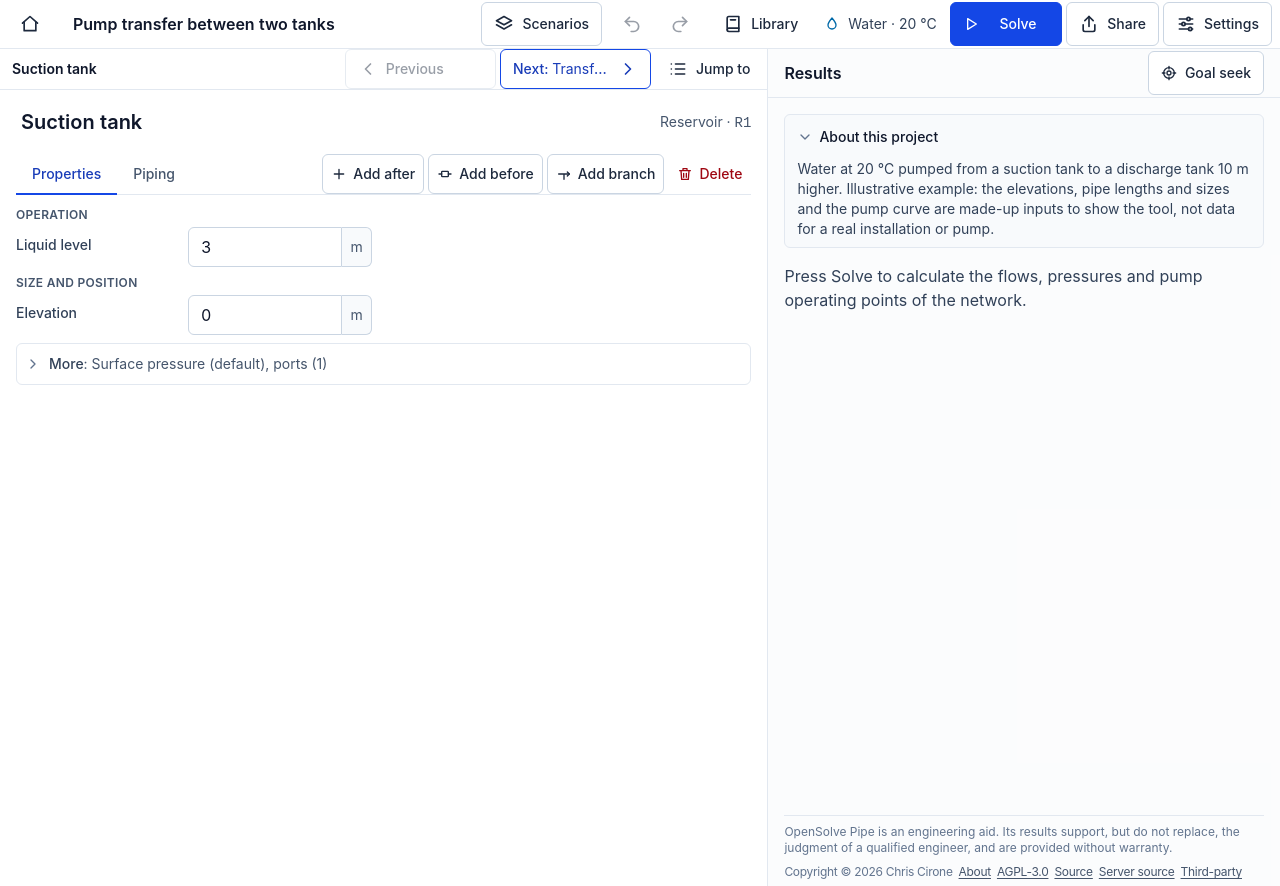
Test case: the export dialog › warns of a solve that did not converge, current or out of date (red)
Click the button "Solve" at (1006, 24), box [950,2,1062,46]
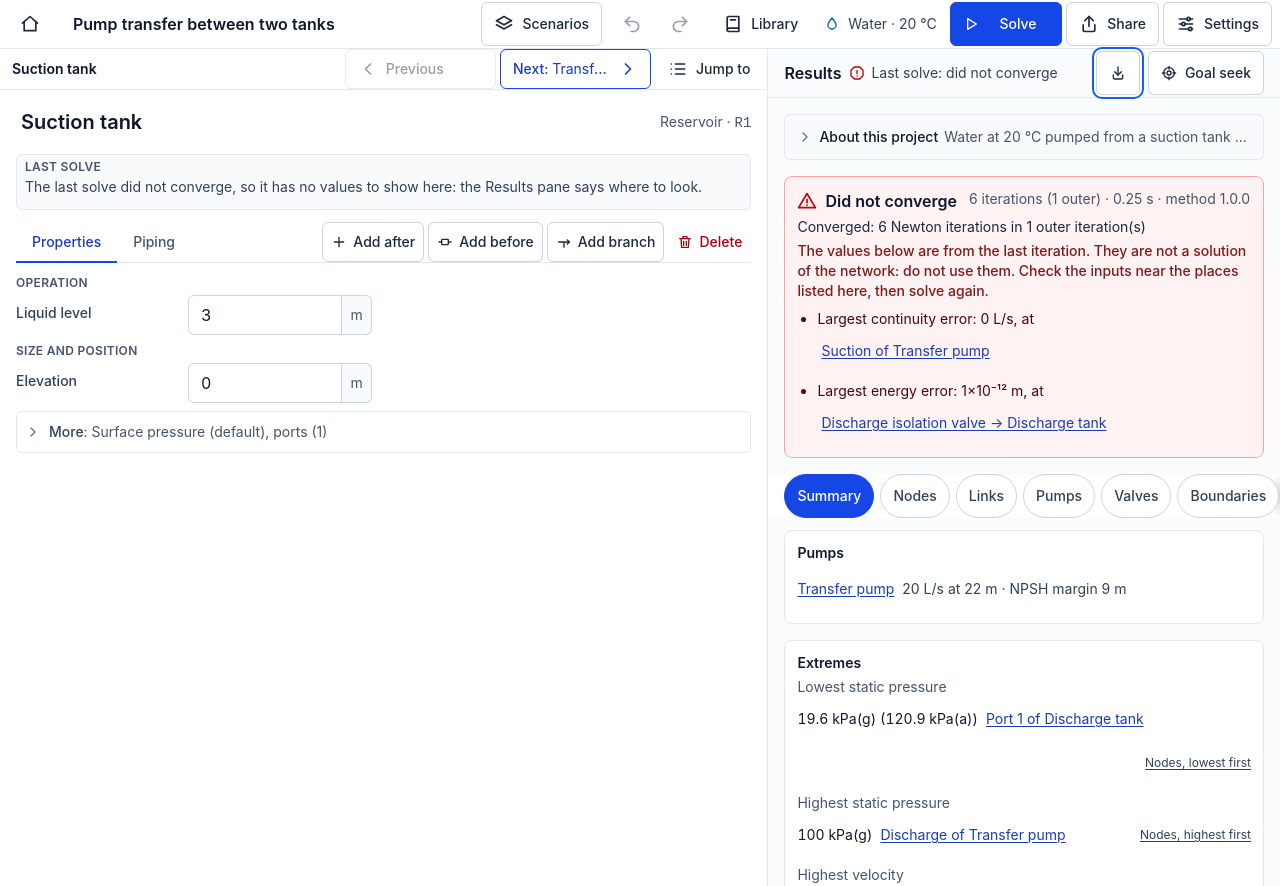
Click the button named "Export results" at (1118, 73), box [1096,51,1140,95]
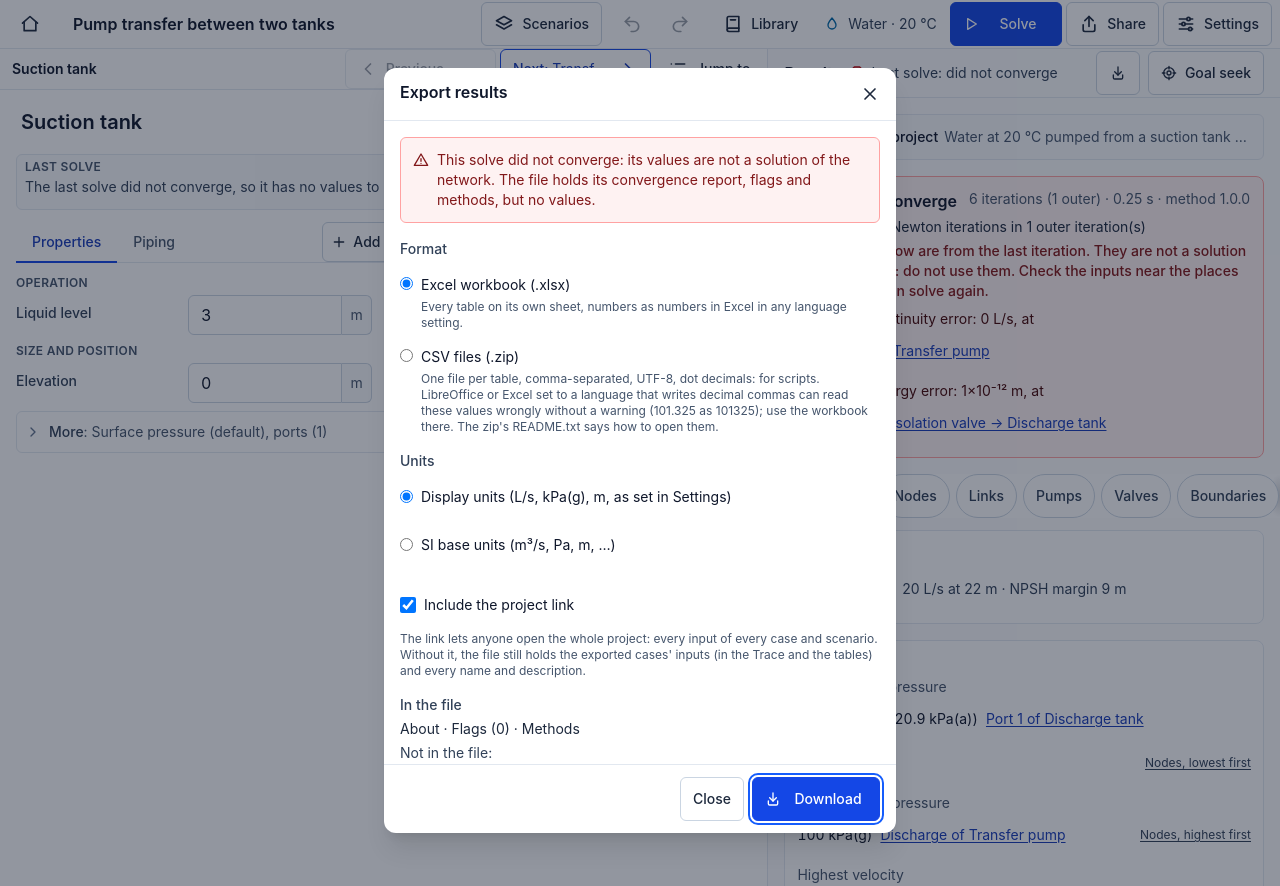
Expected: the text "Nodes" is not shown
Now the list item shows "This solve did not converge: its values are not a solution of the network. The file holds its convergence report, flags and methods, but no values.", box [437,150,850,208]
Click the button "Close" at (712, 798), box [680,776,744,820]
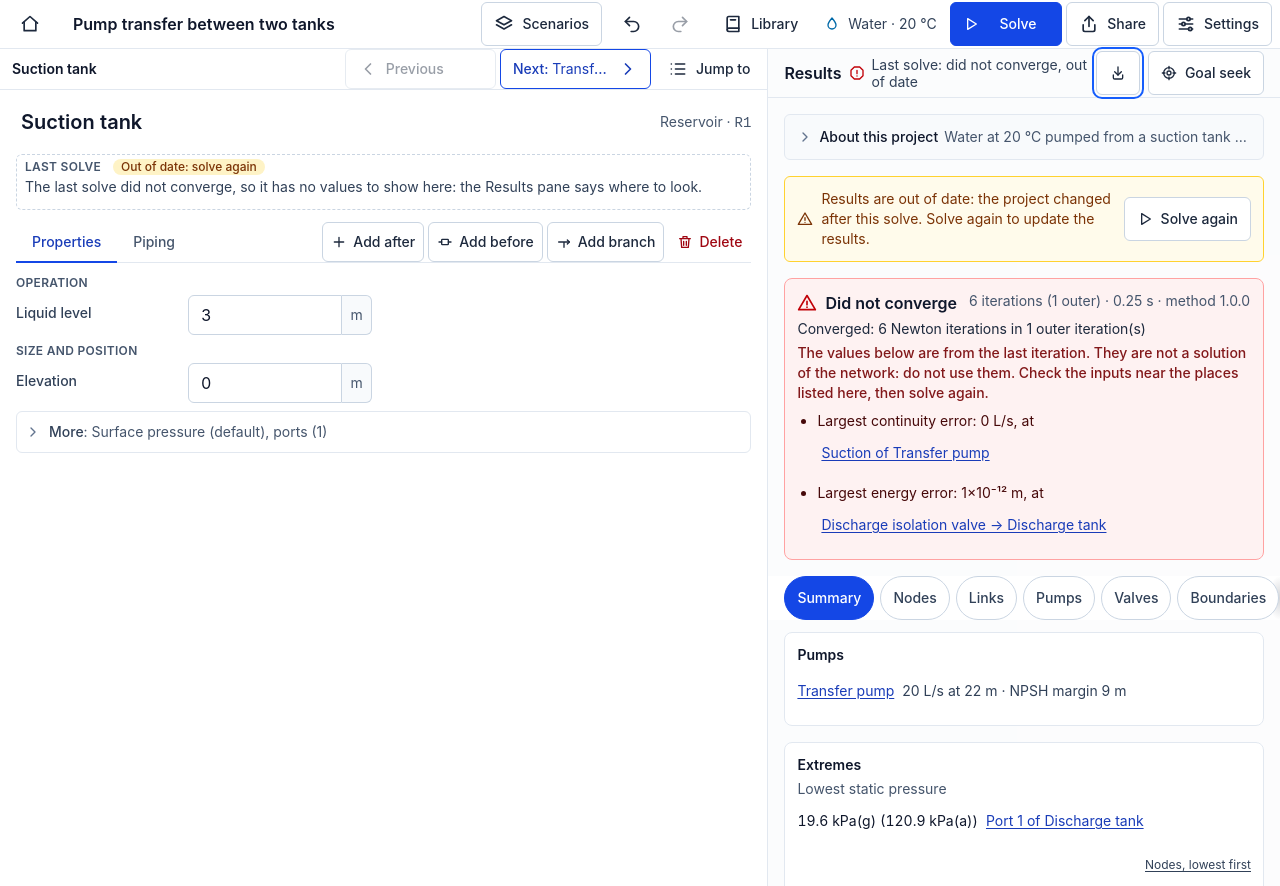
Click the button named "Export results" at (1118, 73), box [1096,51,1140,95]
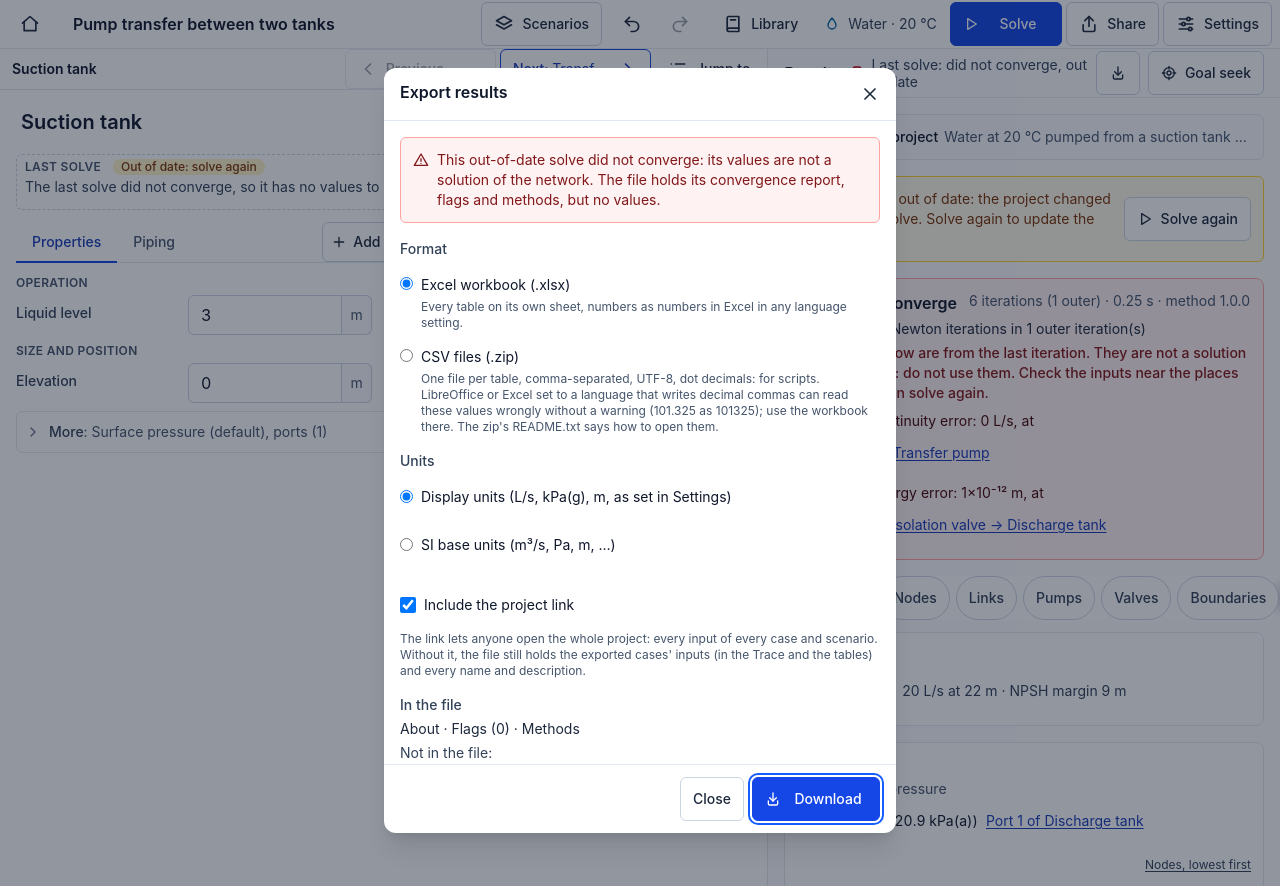
Now the list item shows "out-of-date", box [437,150,845,208]
